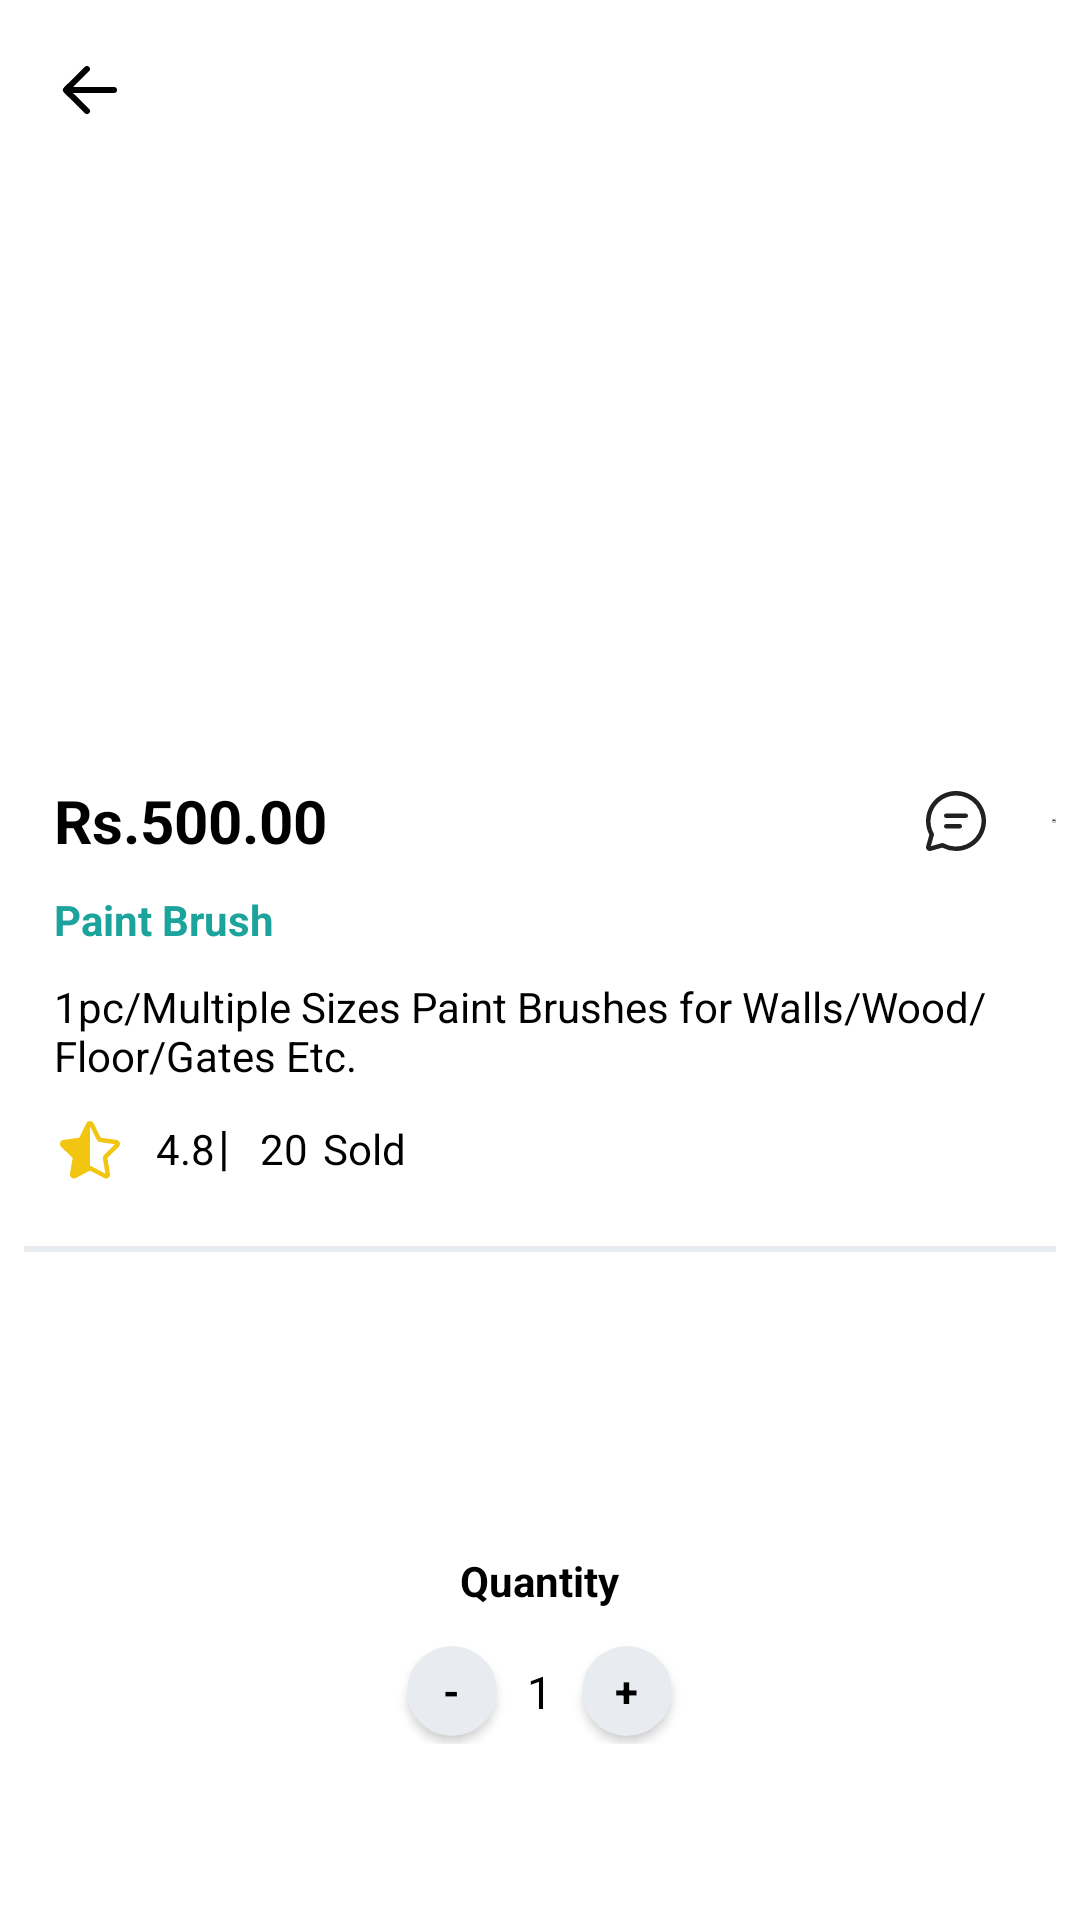

Icon bounding boxes for this 1080 x 1920 phone screenshot, format (x1, y1, x2, y2):
fluent arrow left: (62, 66, 117, 114)
